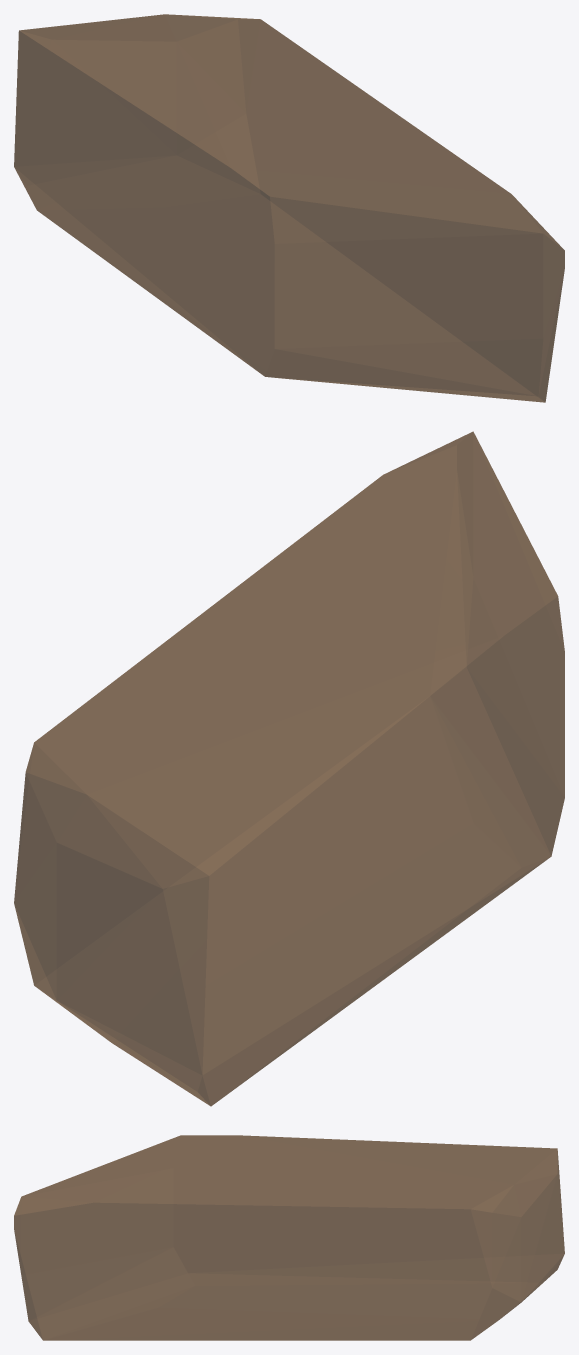
3 views of the same model, one above another, from view 1: azimuth 30°, elevation 25°; view 2: azimuth 150°, elevation 25°; view 3: azimuth 270°, elevation 25° (orthographic). The views are drawn at different scales.
Visible parts, largest first — view 1: Shape_IndexedFaceSet.021_Shape_IndexedFaceSet.10126; view 2: Shape_IndexedFaceSet.021_Shape_IndexedFaceSet.10126; view 3: Shape_IndexedFaceSet.021_Shape_IndexedFaceSet.10126.
Part boxes in pixels (x1,y1,x2,y2): Shape_IndexedFaceSet.021_Shape_IndexedFaceSet.10126: (14, 14, 564, 402); Shape_IndexedFaceSet.021_Shape_IndexedFaceSet.10126: (14, 431, 564, 1106); Shape_IndexedFaceSet.021_Shape_IndexedFaceSet.10126: (14, 1135, 564, 1340).
Bounding box in the file's own units: 0.00803 × 0.00803 × 0.0278.
